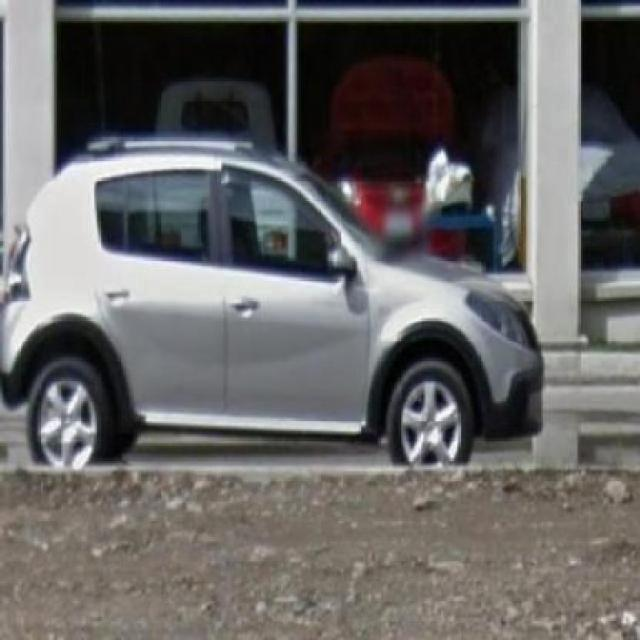car: (2, 133, 550, 472)
